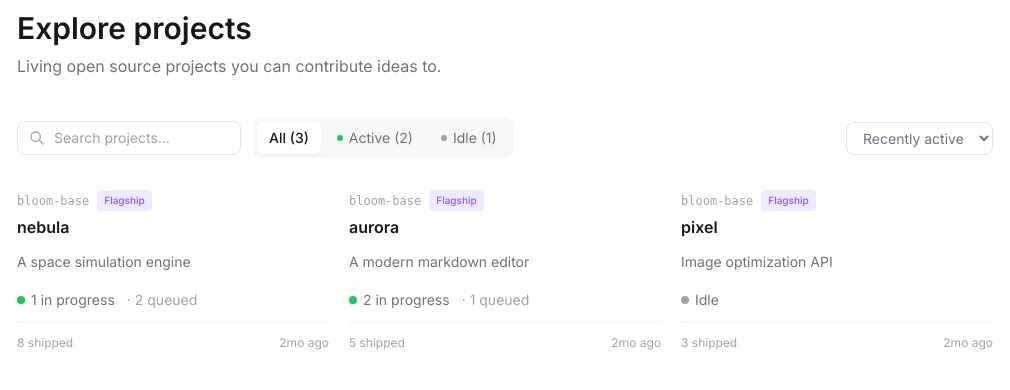
Test: ExplorePage › Search › clears search when Clear search button is clicked
Expected: the text "aurora" is shown, x1=349 y1=217 x2=399 y2=237
Step 1. Type "nonexistent" into the field with placeholder "Search projects..." → (129, 138), box x1=17 y1=121 x2=241 y2=155
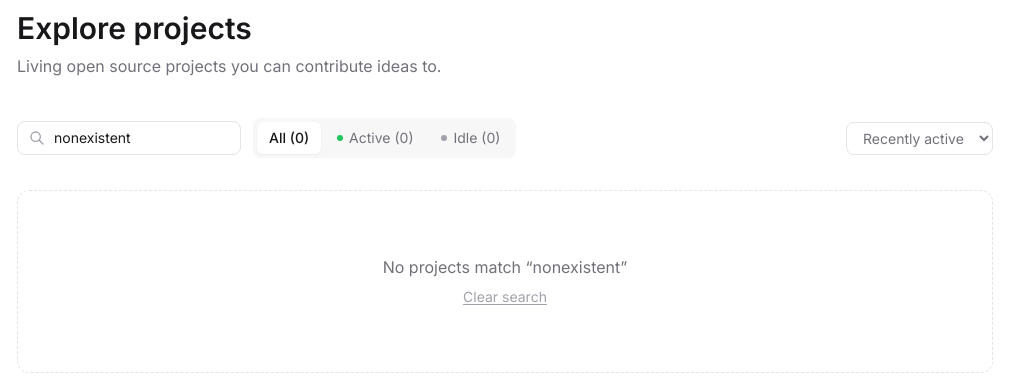
Expected: the button "Clear search" is shown
Step 2. Click the button "Clear search" → (505, 297), box x1=463 y1=287 x2=547 y2=307
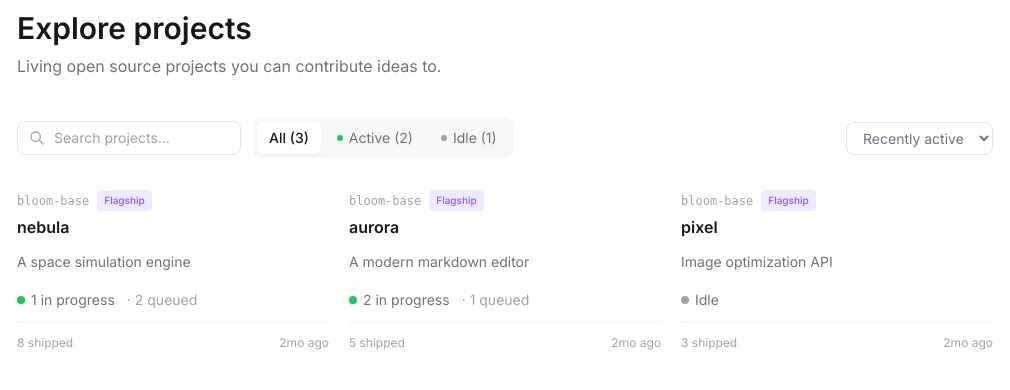
Expected: the text "aurora" is shown, x1=349 y1=217 x2=399 y2=237
Expected: the text "pixel" is shown, x1=681 y1=217 x2=718 y2=237
Expected: the text "nebula" is shown, x1=17 y1=217 x2=69 y2=237
